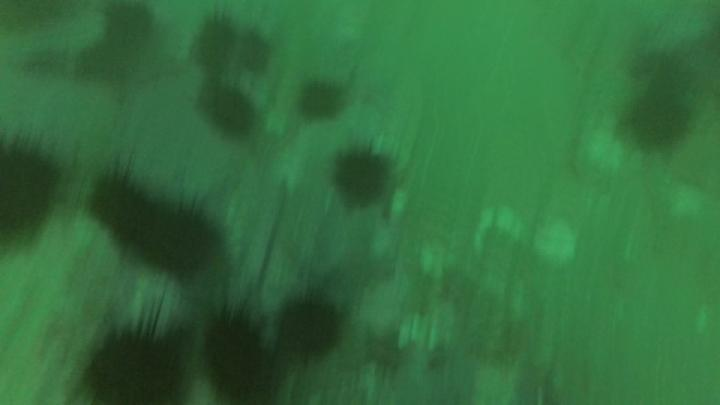echinus: (70, 284, 196, 405), (200, 290, 280, 405), (1, 128, 72, 248), (145, 186, 225, 284), (82, 154, 160, 248), (271, 287, 351, 368), (325, 136, 402, 219), (194, 71, 266, 140), (632, 84, 694, 156), (294, 73, 360, 127), (186, 7, 236, 68)
scallop: (576, 124, 625, 184), (533, 220, 579, 270)
